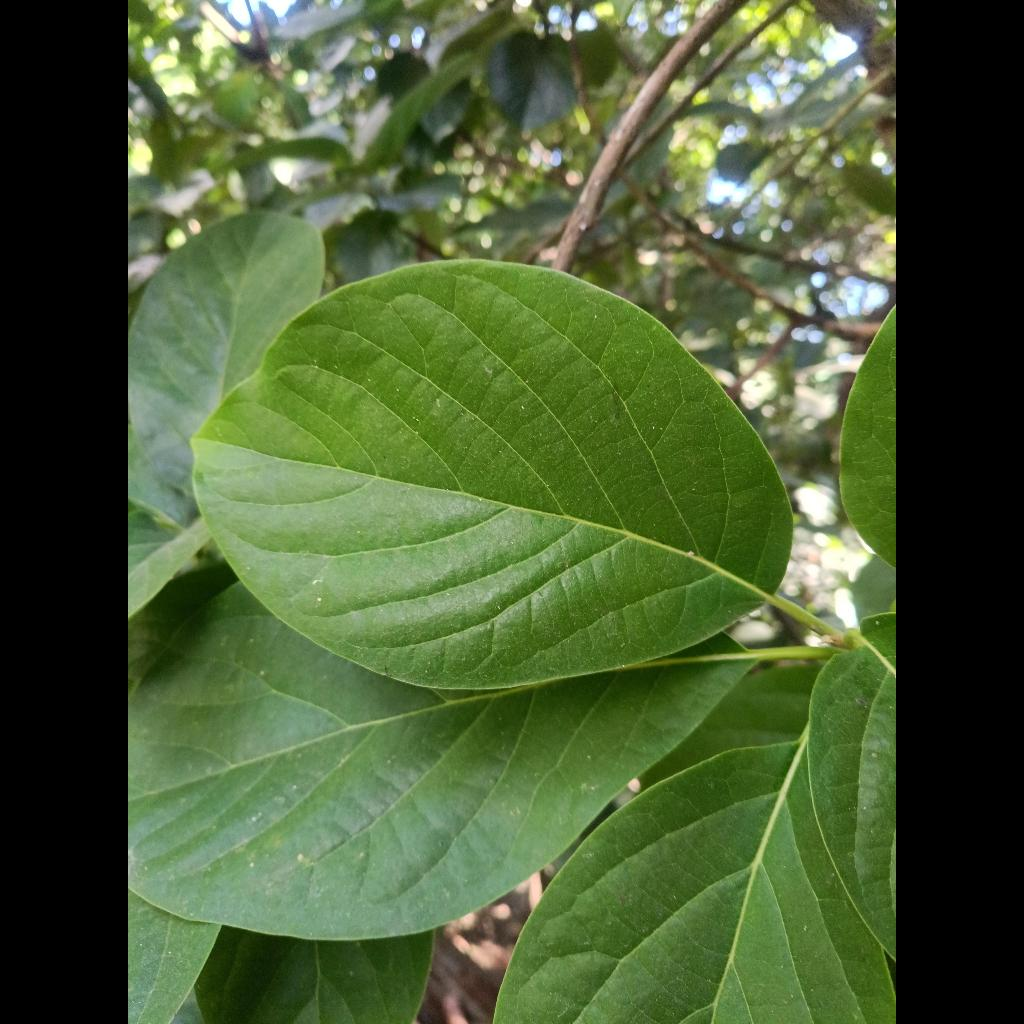Healthy: (192, 261, 792, 689)
